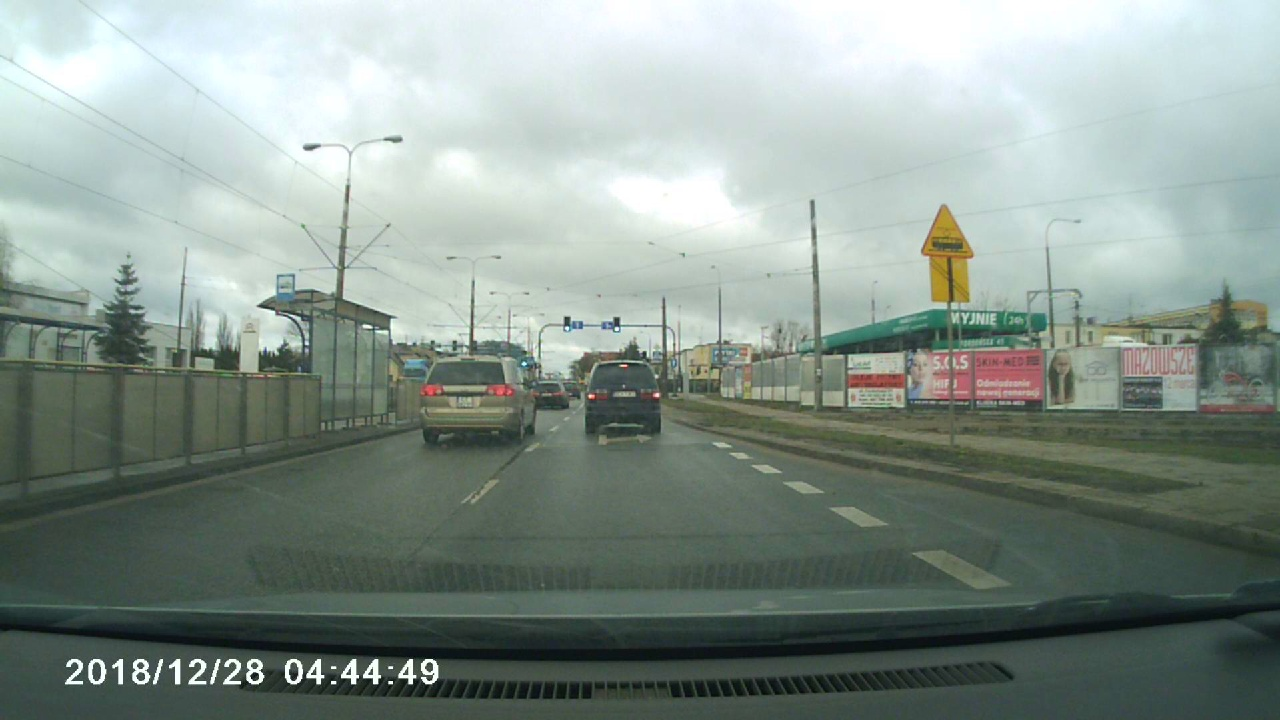A21: (920, 204, 976, 255)
